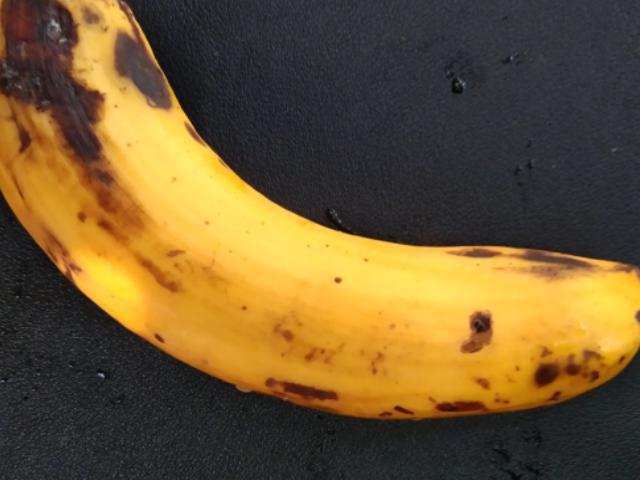overripe: (0, 0, 623, 416)
